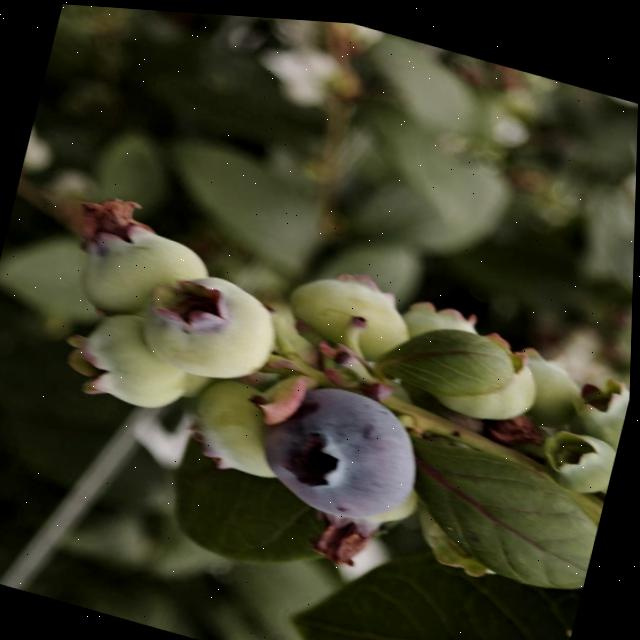RipeBlueBerry: (251, 363, 436, 532)
UnripeBlueBerry: (133, 254, 289, 393), (64, 207, 218, 336), (65, 298, 200, 417), (280, 256, 420, 367), (181, 363, 299, 481)
